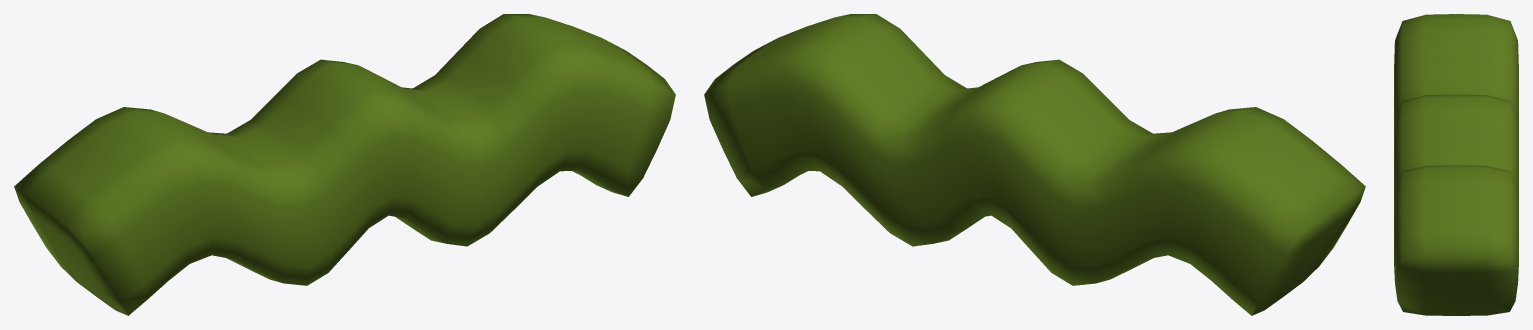
File: zig.fbx
The picture shows the model from 3 angles, left to right: view 1: azimuth 30°, elevation 25°; view 2: azimuth 150°, elevation 25°; view 3: azimuth 270°, elevation 25°; orthographic projection. The views are drawn at different scales.
Visible parts, largest first — view 1: zig; view 2: zig; view 3: zig.
Part boxes in pixels (x1,y1,x2,y2): zig: [14, 14, 675, 315]; zig: [704, 14, 1365, 315]; zig: [1394, 14, 1518, 315].
Bounding box in the file's own units: 32.88 × 9.05 × 7.46.
